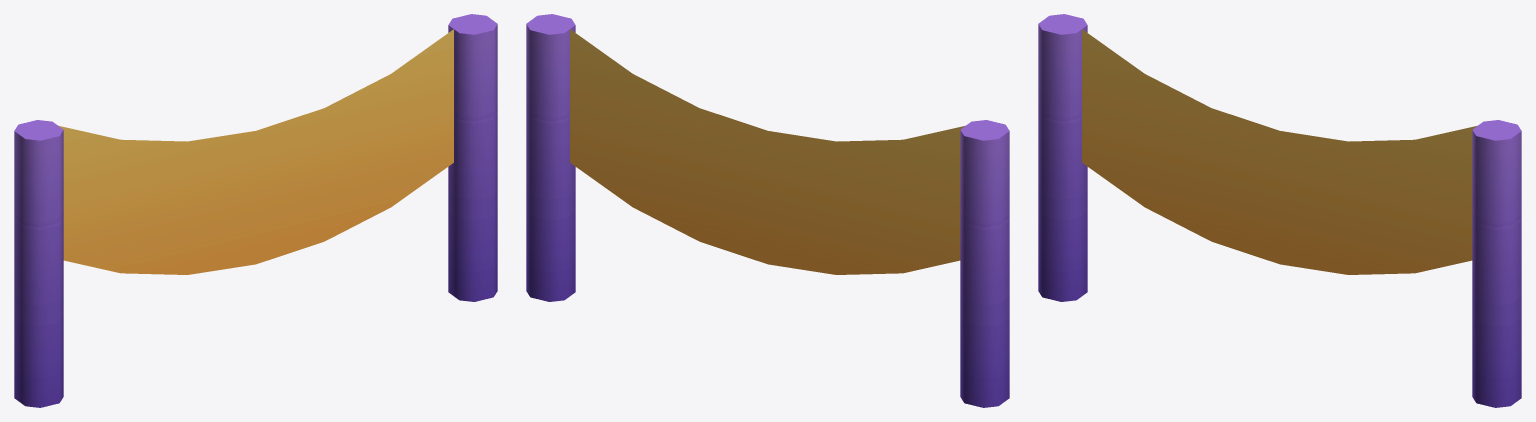
File: banner-hanging.glb
3 views of the same model, side by side, from view 1: azimuth 30°, elevation 25°; view 2: azimuth 150°, elevation 25°; view 3: azimuth 330°, elevation 25° (orthographic).
Visible parts, largest first — view 1: banner-hanging; view 2: banner-hanging; view 3: banner-hanging.
Boxes of the visible parts, x1,y1,x2,y2 form: banner-hanging: [14, 14, 497, 407]; banner-hanging: [526, 14, 1009, 407]; banner-hanging: [1038, 14, 1521, 407].
Size of the model in its own units: 0.925 by 0.5001 by 0.075.
1 material, 1 textured.
